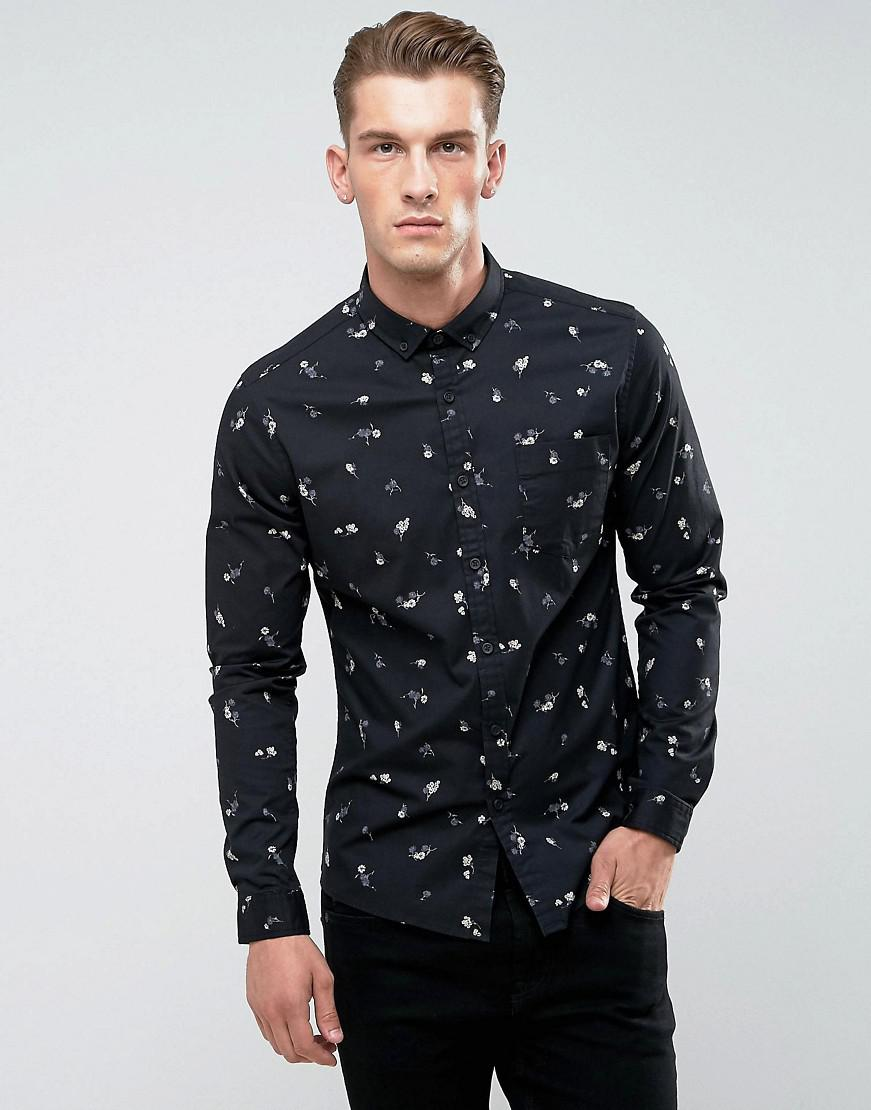teeshirt: (186, 261, 757, 907)
